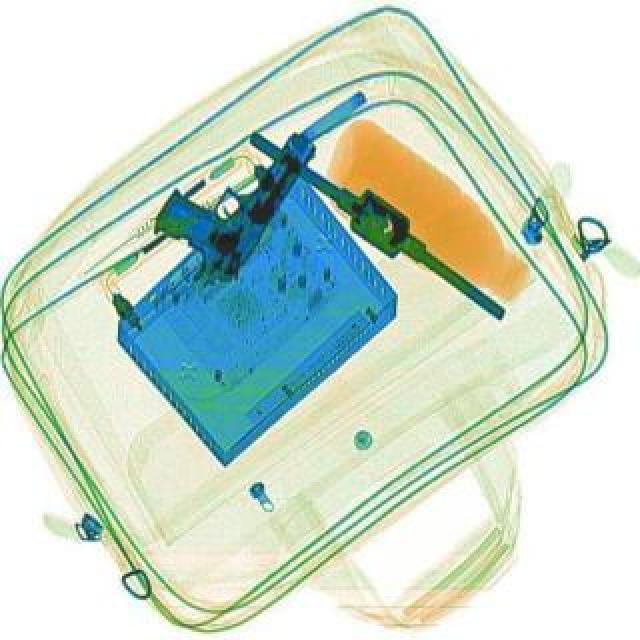gun: (132, 100, 316, 298)
